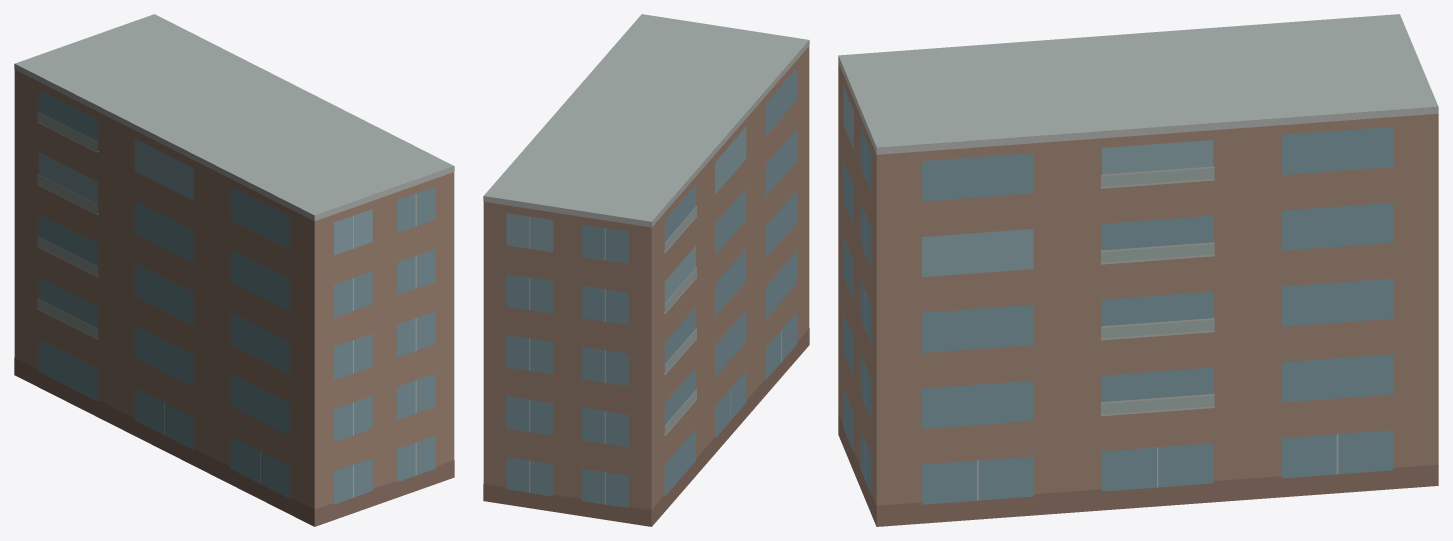
The model's file is survey-upis-32935585.glb.
3 views of the same model, side by side, from view 1: azimuth 30°, elevation 25°; view 2: azimuth 150°, elevation 25°; view 3: azimuth 270°, elevation 25° (orthographic). The views are drawn at different scales.
Parts seen in each view (by area): view 1: survey-upis-32935585.tmp; view 2: survey-upis-32935585.tmp; view 3: survey-upis-32935585.tmp.
Boxes of the visible parts, x1=… form: survey-upis-32935585.tmp: x1=14, y1=14, x2=454, y2=526; survey-upis-32935585.tmp: x1=483, y1=14, x2=809, y2=526; survey-upis-32935585.tmp: x1=838, y1=14, x2=1438, y2=526.
Bounding box in the file's own units: 9.84 × 13 × 18.66.
